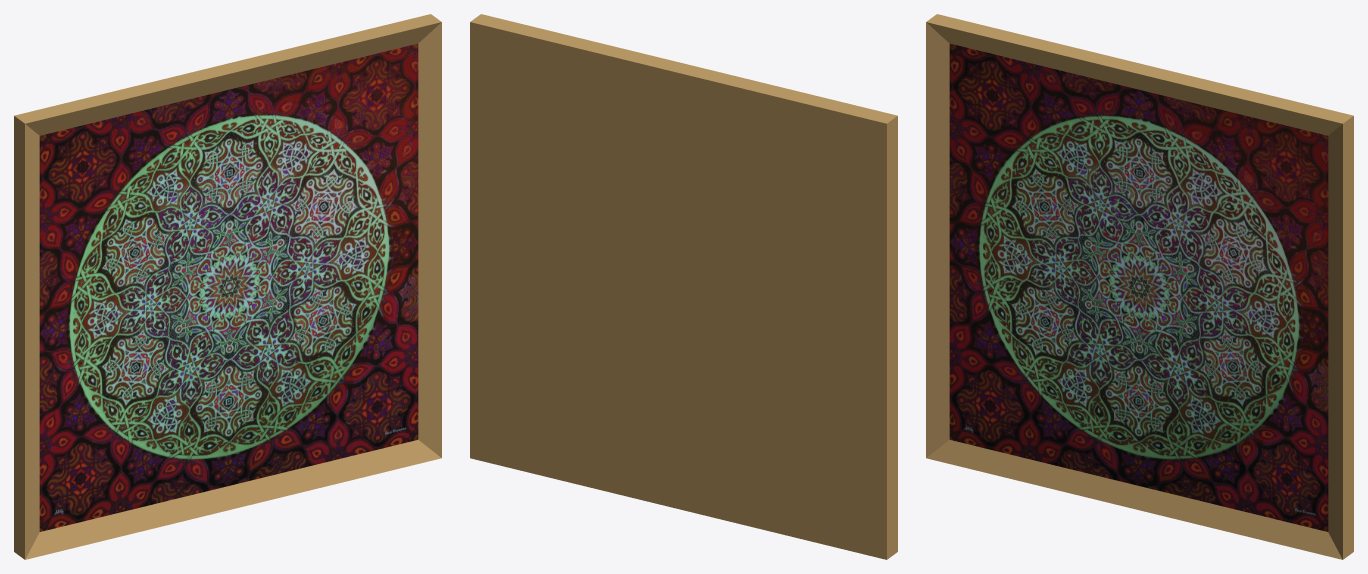
The model's file is peacock-minerva-peacock-blood-moon-red-a1-natural-oak-v2.glb.
3 views of the same model, side by side, from view 1: azimuth 30°, elevation 25°; view 2: azimuth 150°, elevation 25°; view 3: azimuth 330°, elevation 25° (orthographic).
Visible parts, largest first — view 1: FramedPrint; view 2: FramedPrint; view 3: FramedPrint.
Boxes of the visible parts, x1=… form: FramedPrint: x1=14, y1=14, x2=441, y2=559; FramedPrint: x1=470, y1=14, x2=897, y2=559; FramedPrint: x1=926, y1=14, x2=1353, y2=559.
Size of the model in its own units: 0.655 by 0.655 by 0.03.
2 materials, 1 textured.
